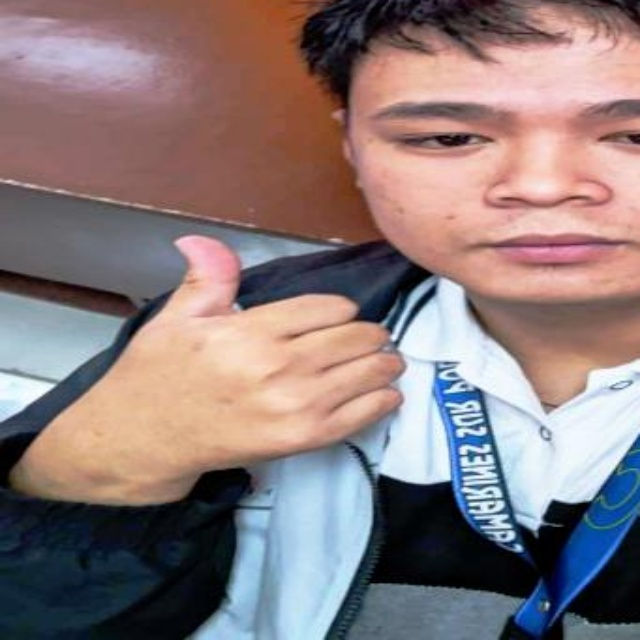thumbs_up: (85, 227, 412, 491)
